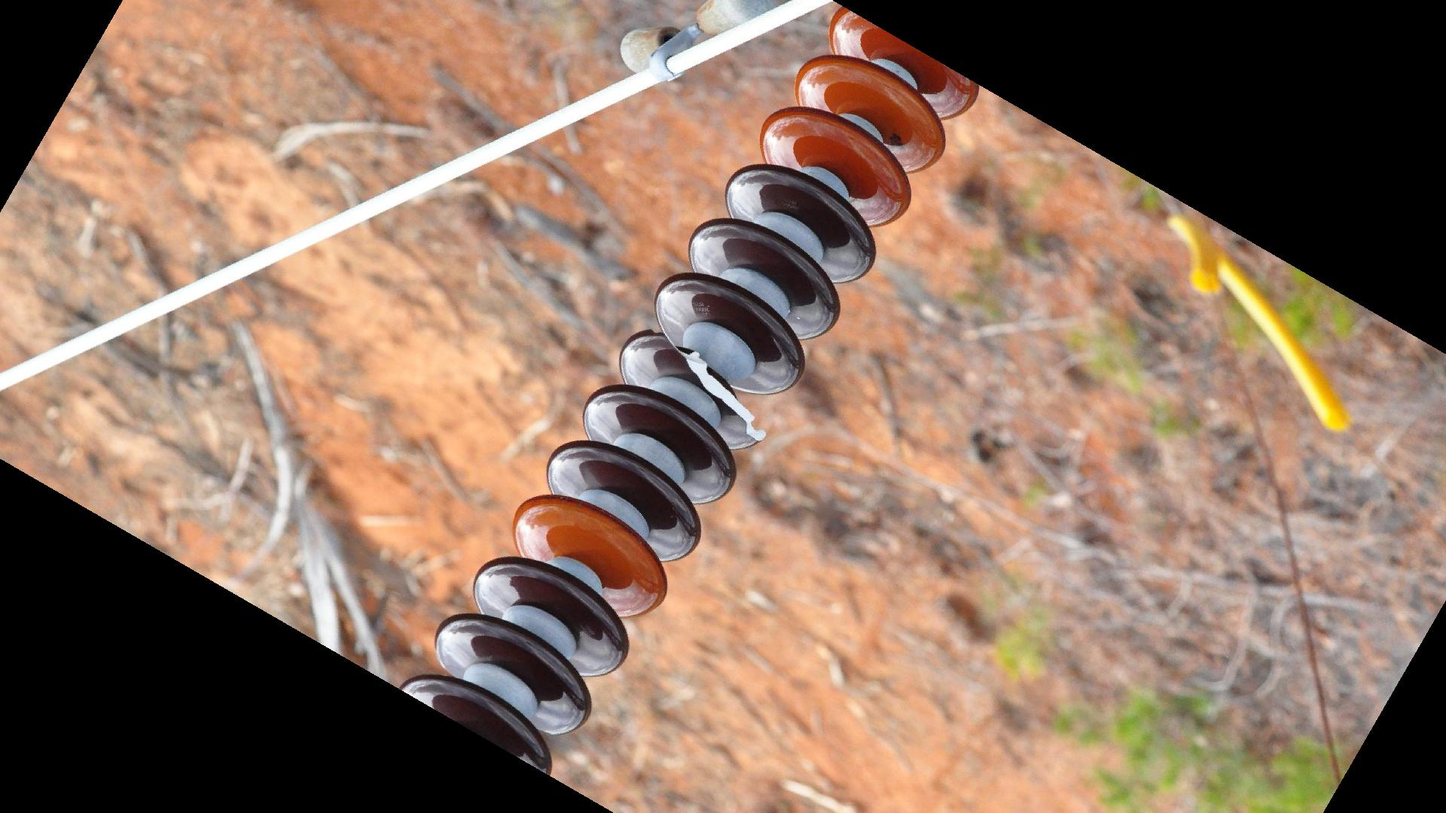insulator: (389, 1, 987, 786)
insulator_breakage: (647, 324, 774, 451)
